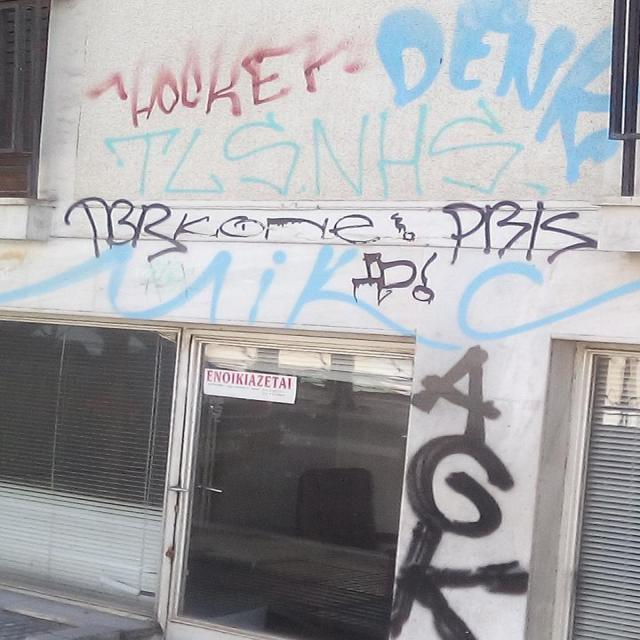nonspitting: (0, 242, 640, 348), (60, 196, 598, 301), (380, 0, 640, 185), (101, 100, 545, 197), (389, 344, 527, 640), (82, 41, 364, 130)
